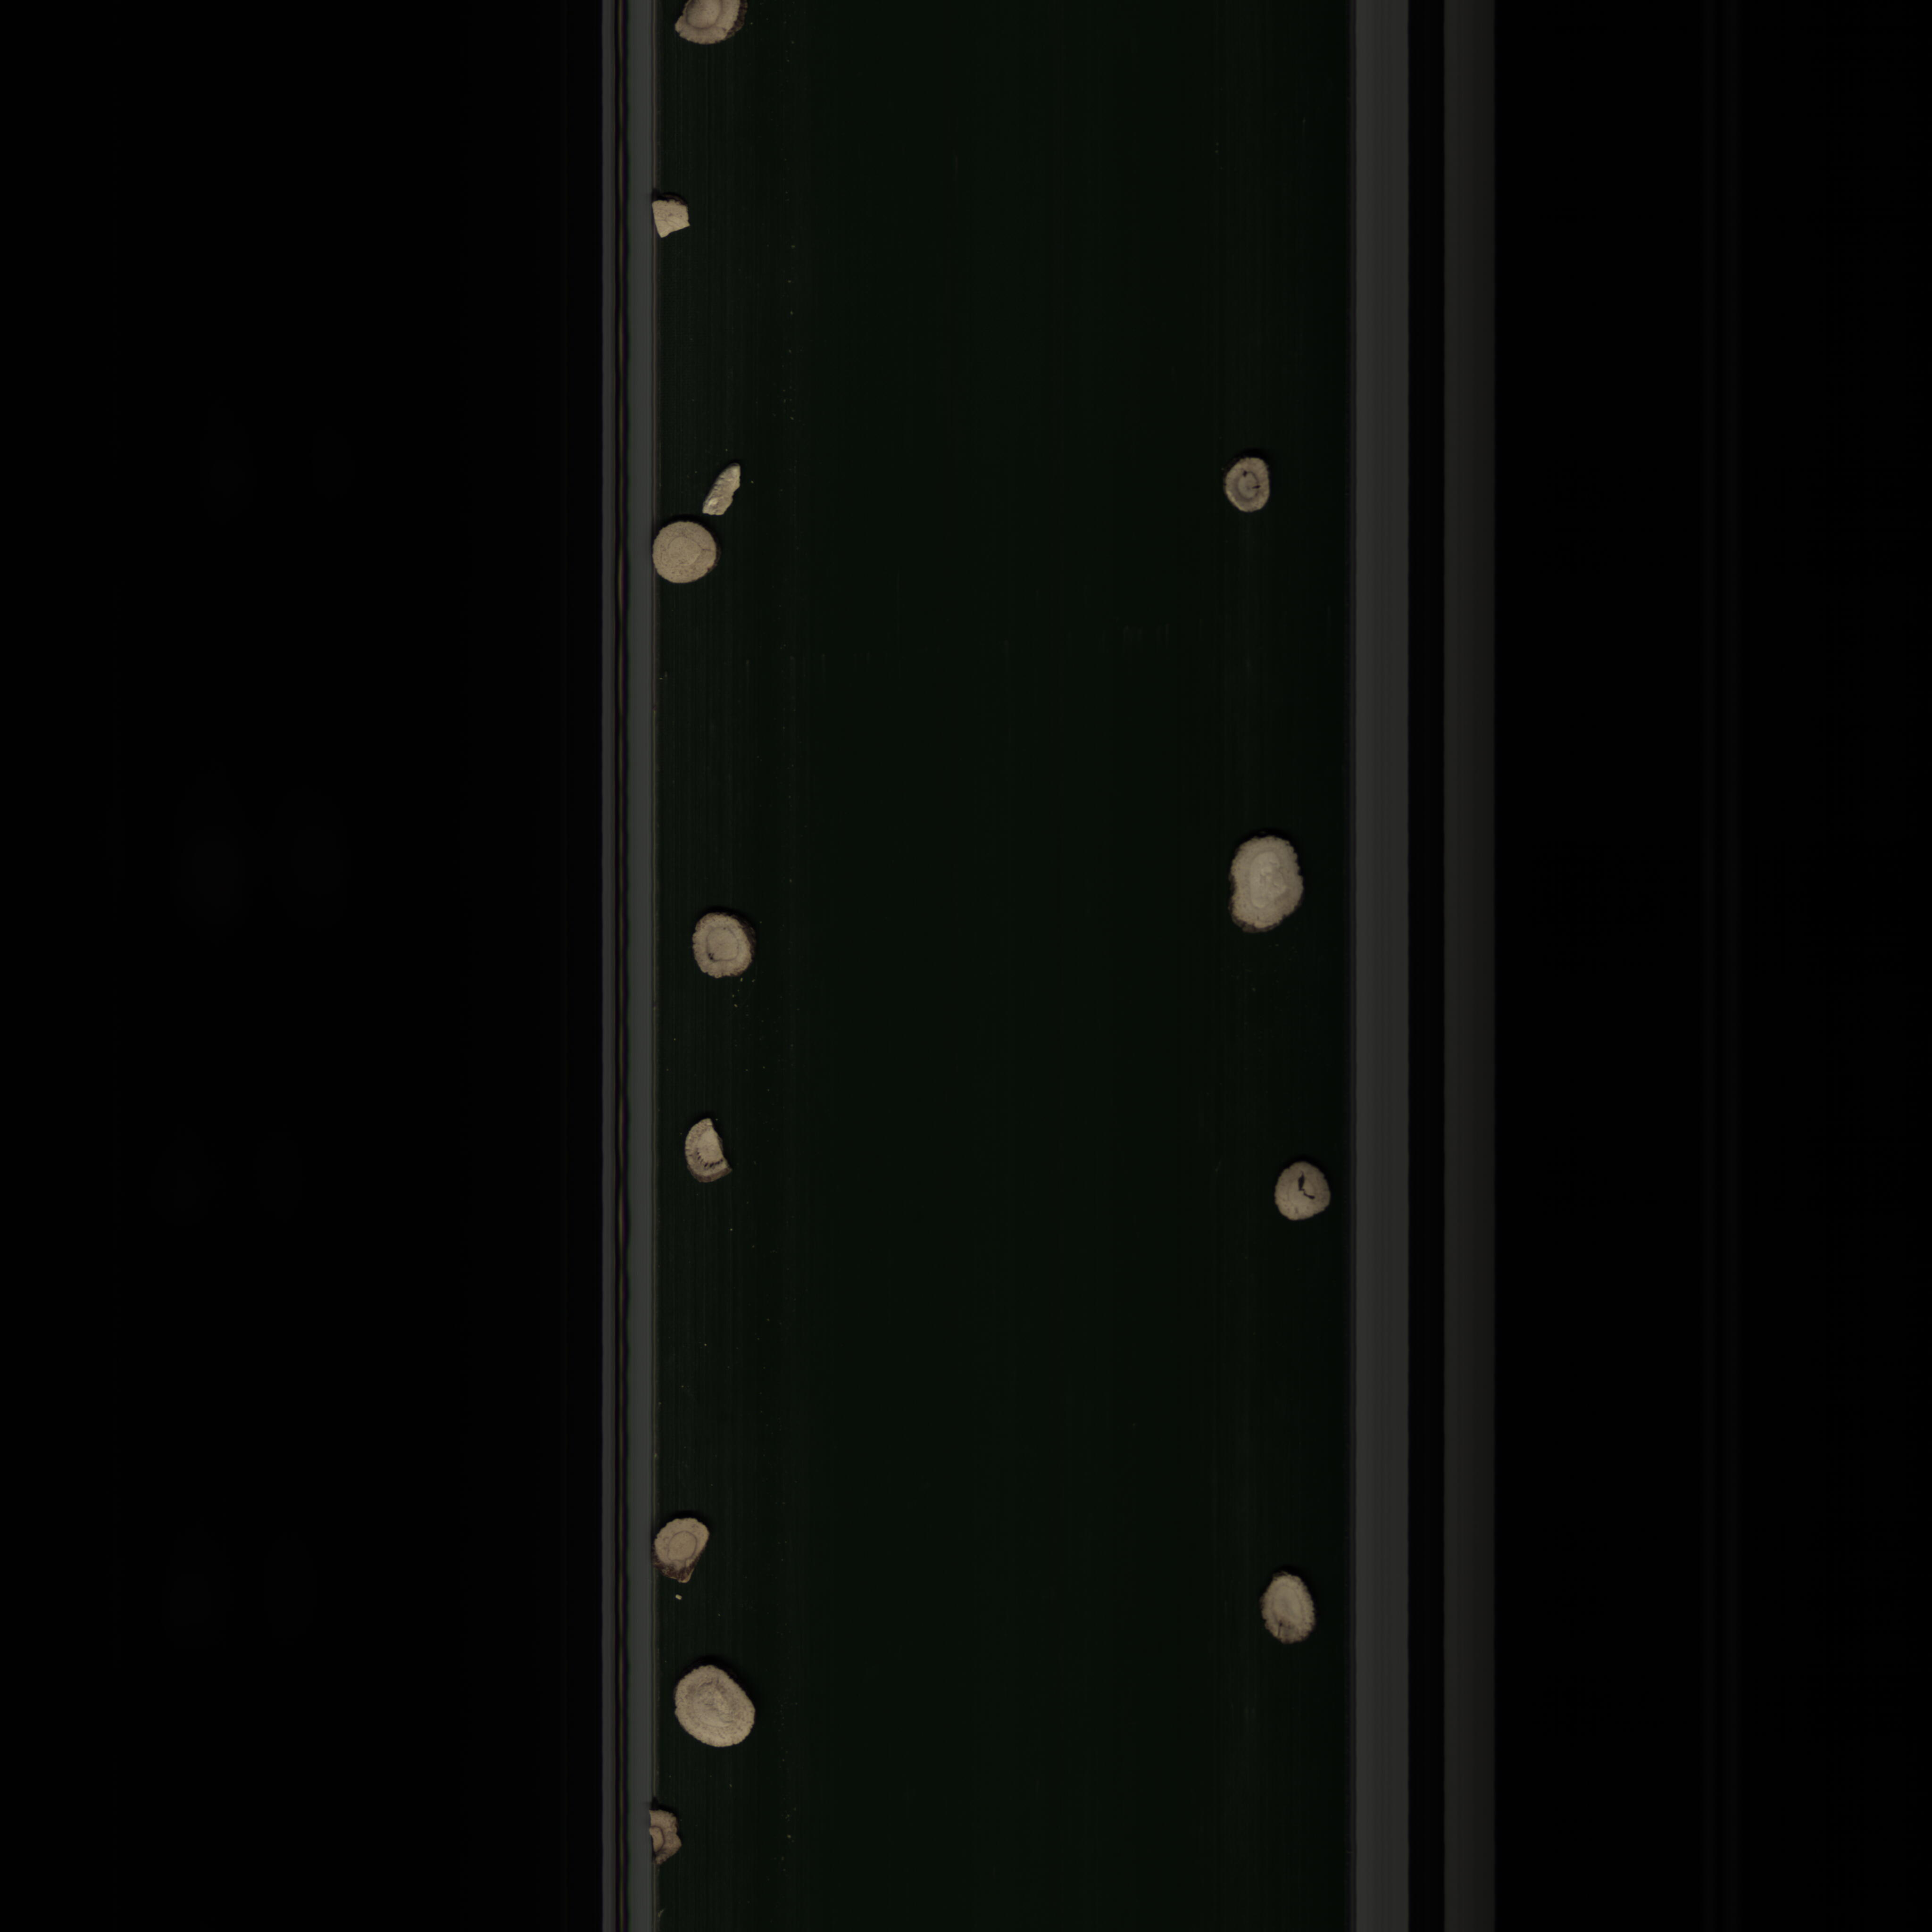debris: (695, 451, 757, 525), (642, 195, 701, 244)
hole: (1251, 1154, 1345, 1237), (1217, 451, 1290, 524), (678, 1109, 734, 1191)
moldy: (640, 1799, 701, 1877)
